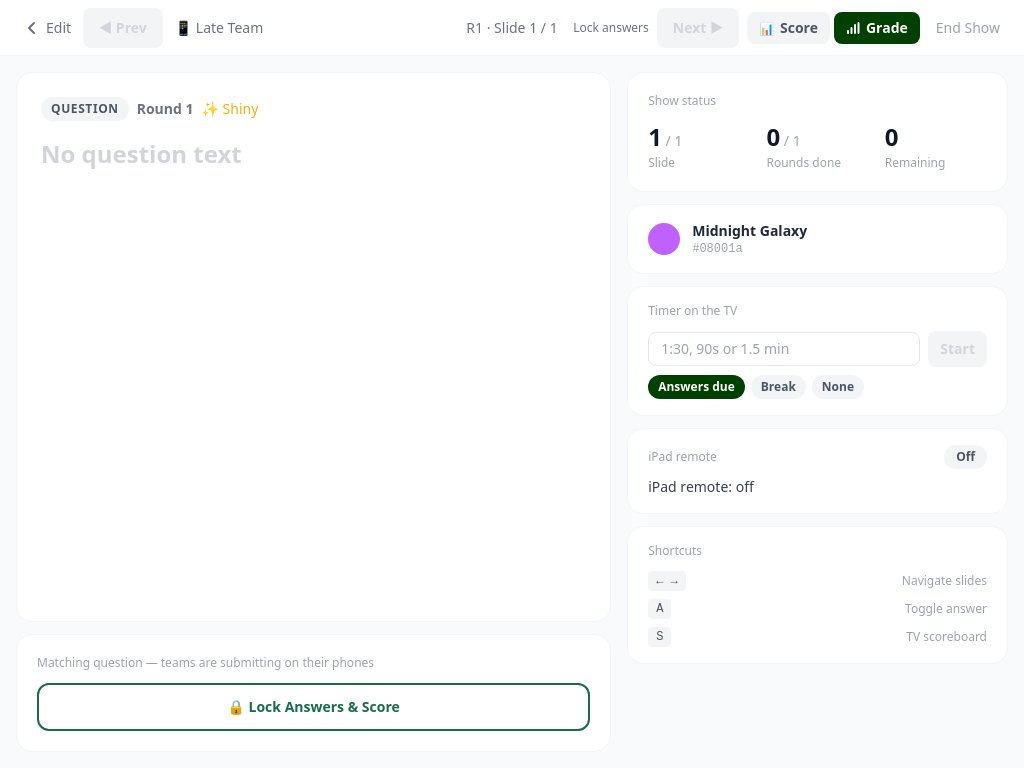
Test: lockAndScore Supabase sequence (characterization) › an upsert that never answers is aborted the same way
Click the button "🔒 Lock Answers & Score" at [314, 707], box [37,683,590,731]
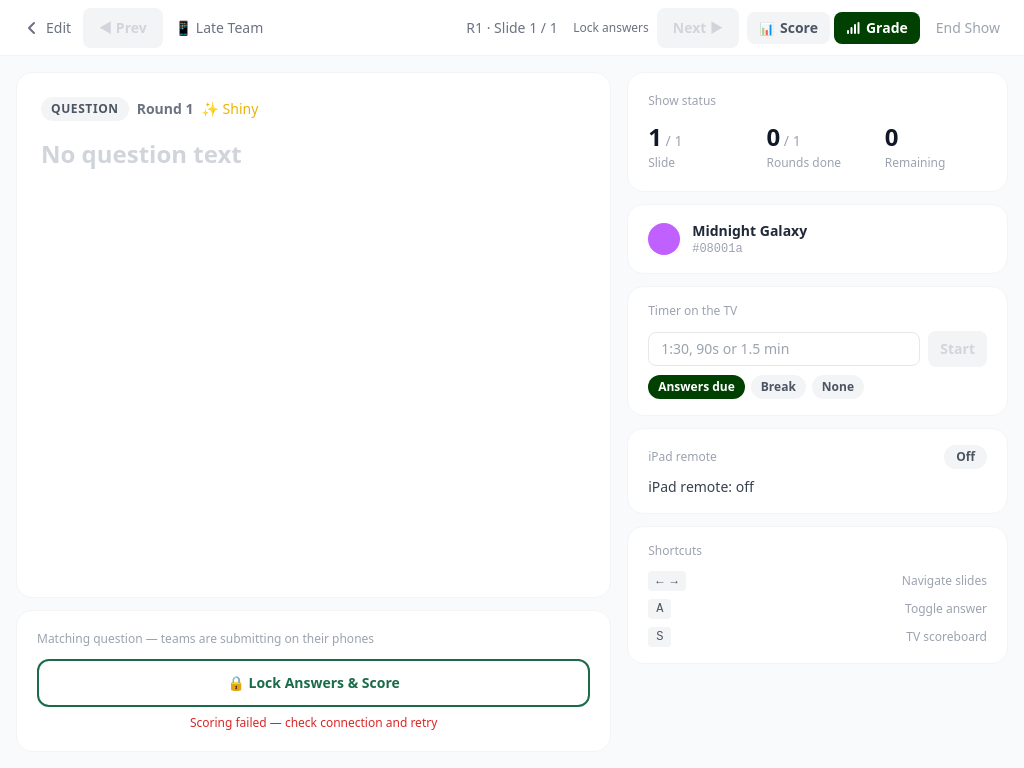
Expected: the text "Scoring failed" is shown, [190,714,437,731]
